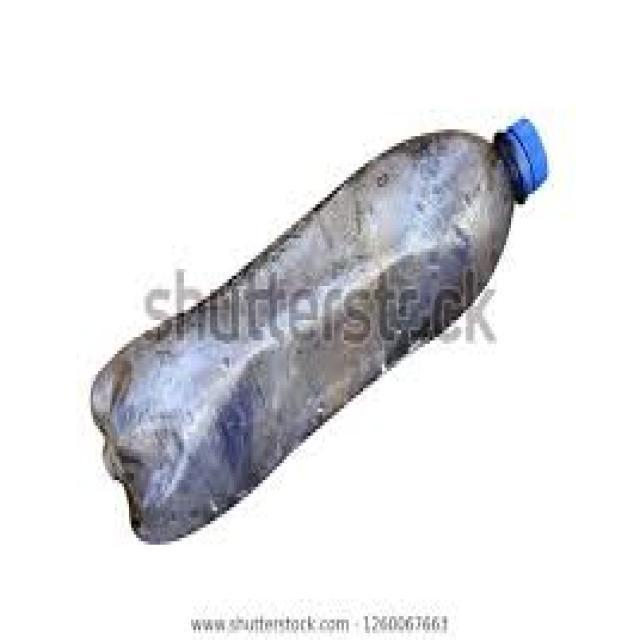Plastic: (88, 114, 552, 546)
